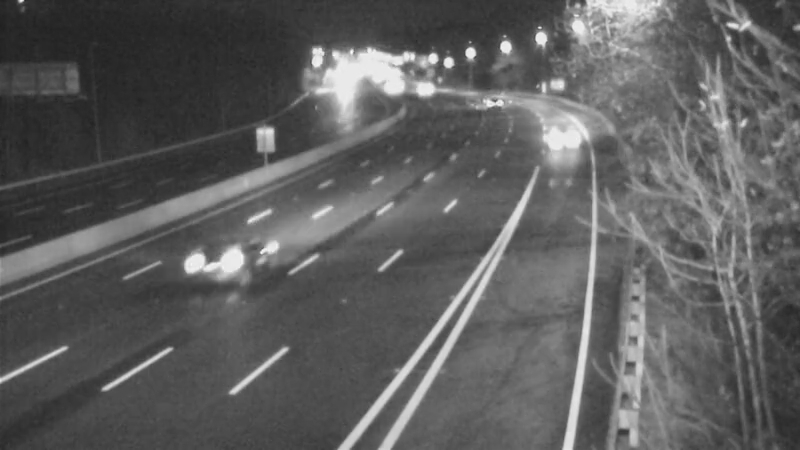vehicle: (167, 231, 247, 311), (396, 62, 446, 112), (457, 77, 507, 127), (537, 116, 587, 166)
